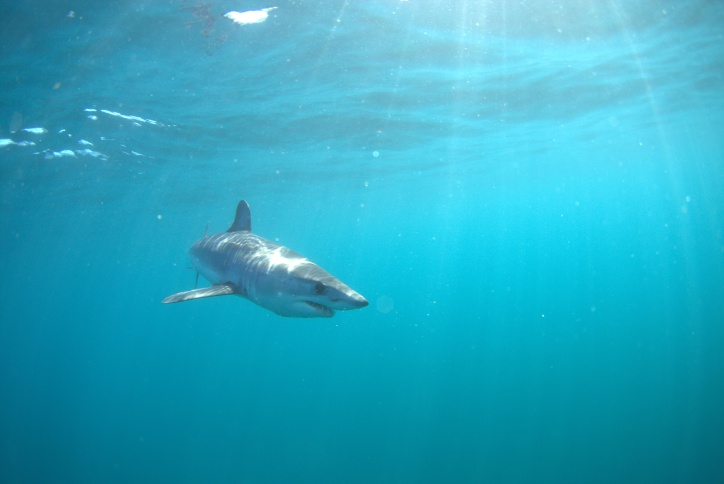Mako: (139, 199, 380, 331)
